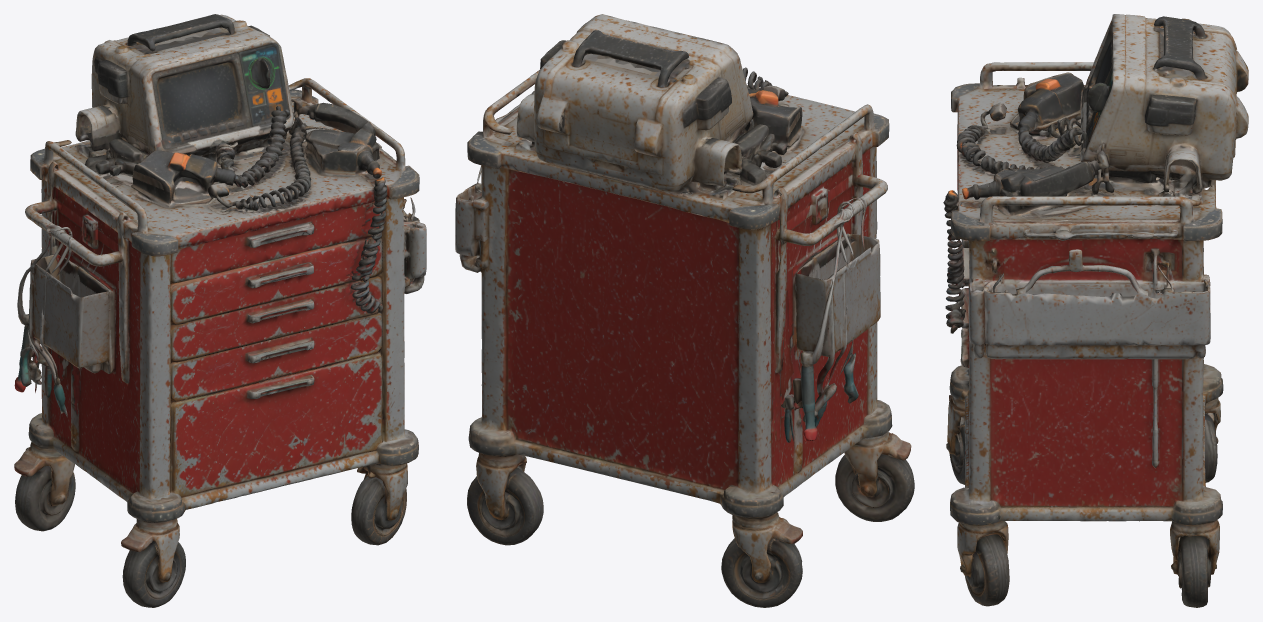
The model's file is CrashCart.fbx.
The picture shows the model from 3 angles, left to right: view 1: azimuth 30°, elevation 25°; view 2: azimuth 150°, elevation 25°; view 3: azimuth 270°, elevation 25°; orthographic projection. The views are drawn at different scales.
Visible parts, largest first — view 1: texture_mapping; view 2: texture_mapping; view 3: texture_mapping.
Boxes of the visible parts, x1=… form: texture_mapping: x1=14, y1=14, x2=426, y2=607; texture_mapping: x1=455, y1=14, x2=914, y2=607; texture_mapping: x1=943, y1=14, x2=1248, y2=607.
Size of the model in its own units: 0.7341 by 0.5429 by 1.
1 material, 1 textured.
